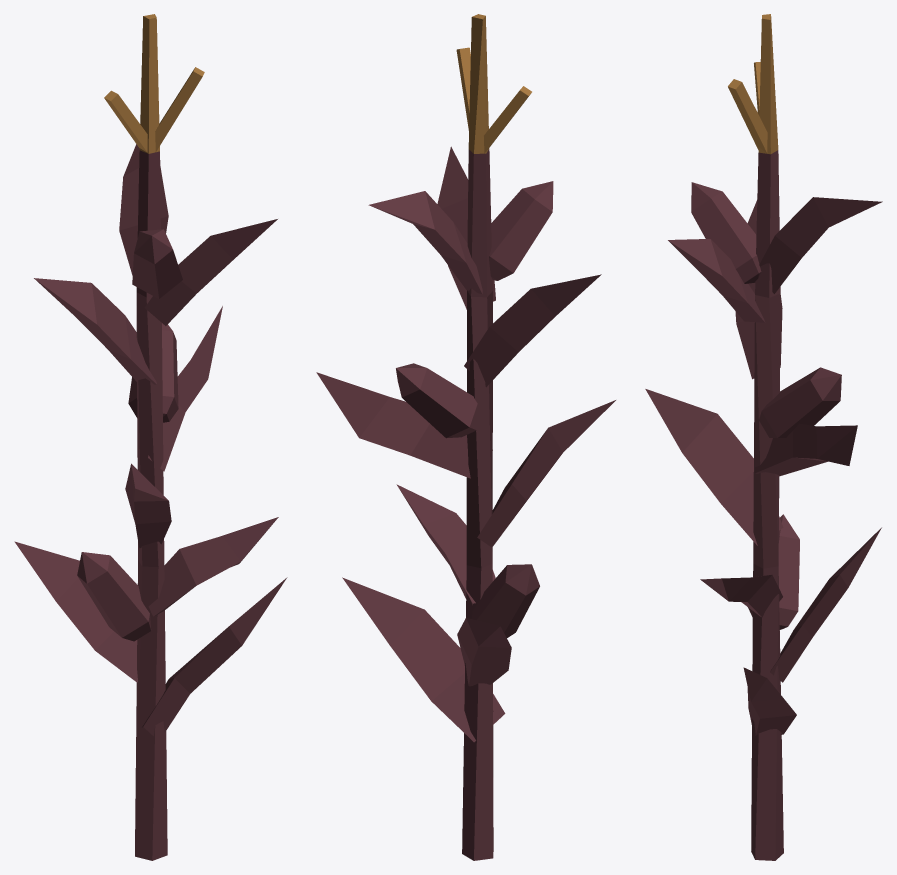
File: nature-corn-plant.glb
3 renders of one model, left to right at view 1: azimuth 30°, elevation 25°; view 2: azimuth 150°, elevation 25°; view 3: azimuth 270°, elevation 25°, orthographic.
Visible parts, largest first — view 1: corn-plant; view 2: corn-plant; view 3: corn-plant.
Boxes of the visible parts, x1,y1,x2,y2 form: corn-plant: (14, 14, 287, 860); corn-plant: (316, 14, 615, 860); corn-plant: (645, 14, 882, 860).
Size of the model in its own units: 0.7377 by 2.3 by 0.591.
